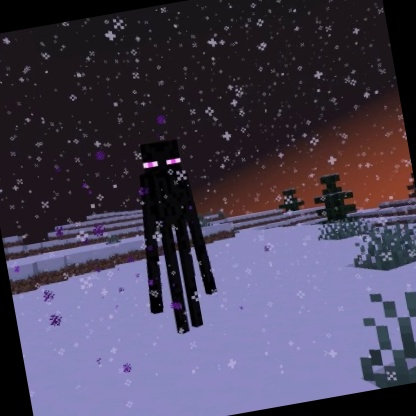enderman: (120, 132, 227, 341)
